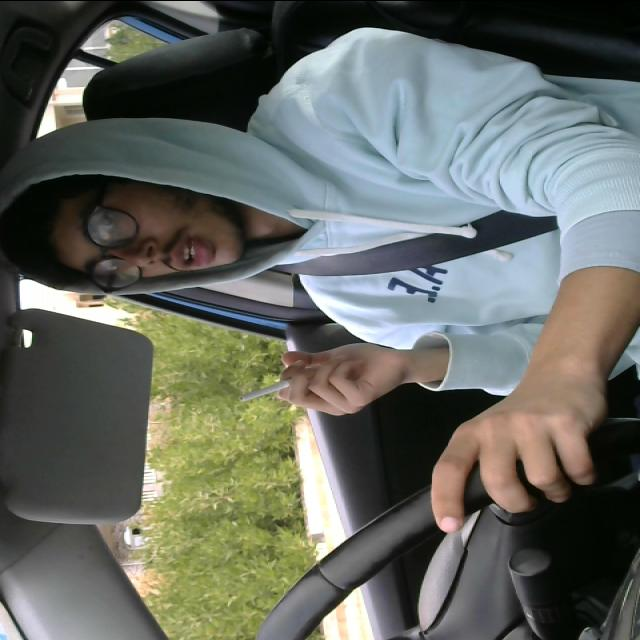smoking: (233, 368, 322, 407)
